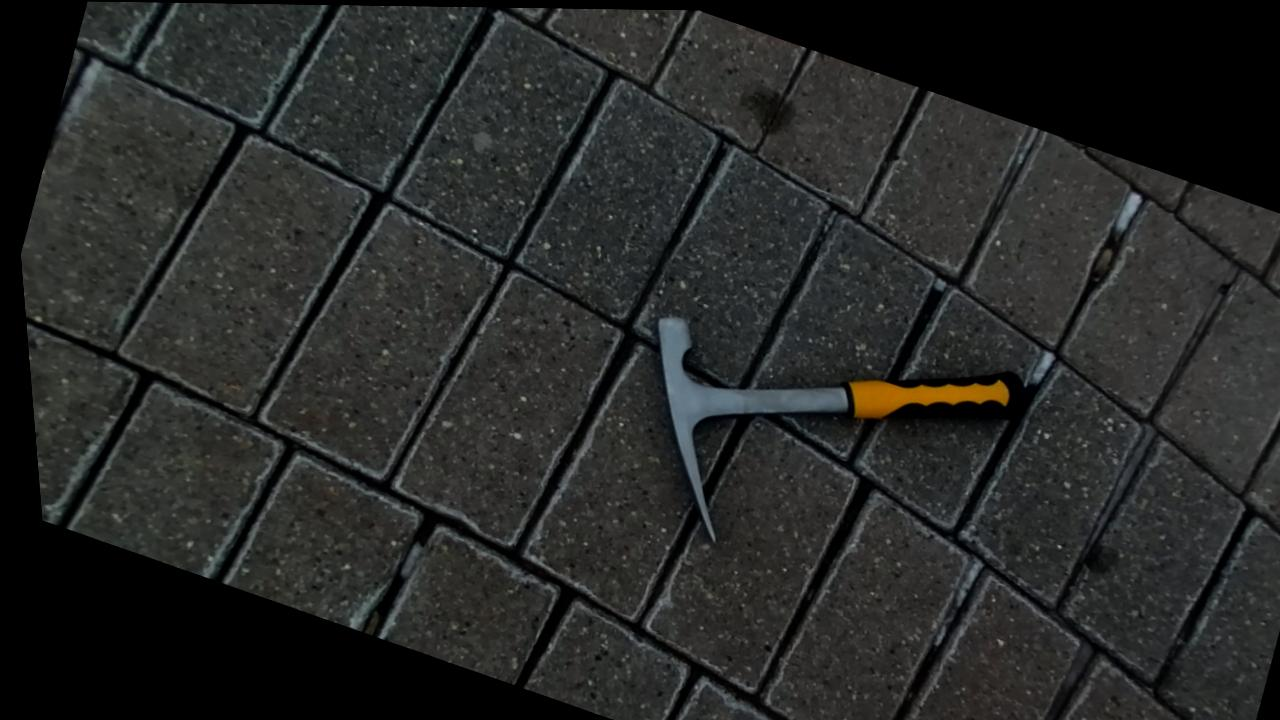pick: (657, 316, 1036, 541)
